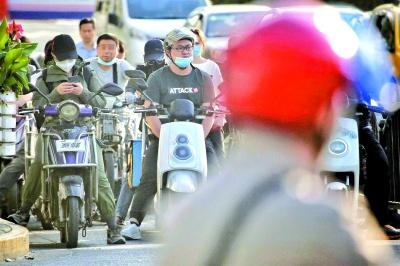target: (9, 32, 126, 248)
